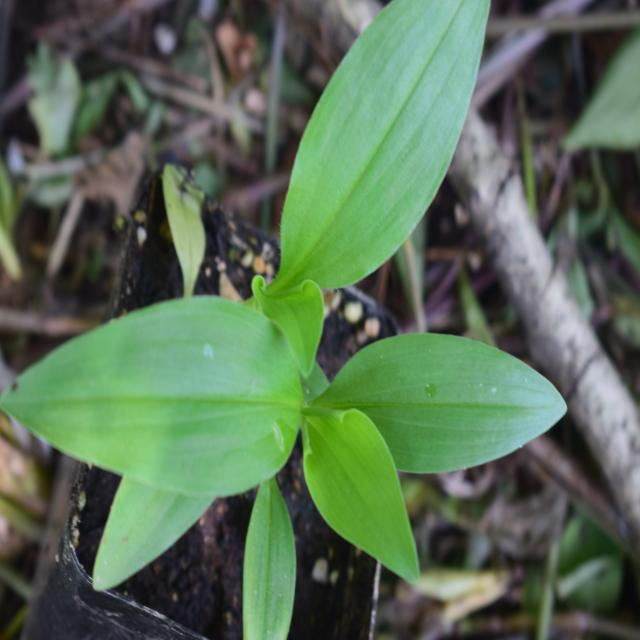Common Dayflower: (24, 308, 555, 594), (276, 0, 510, 292)
